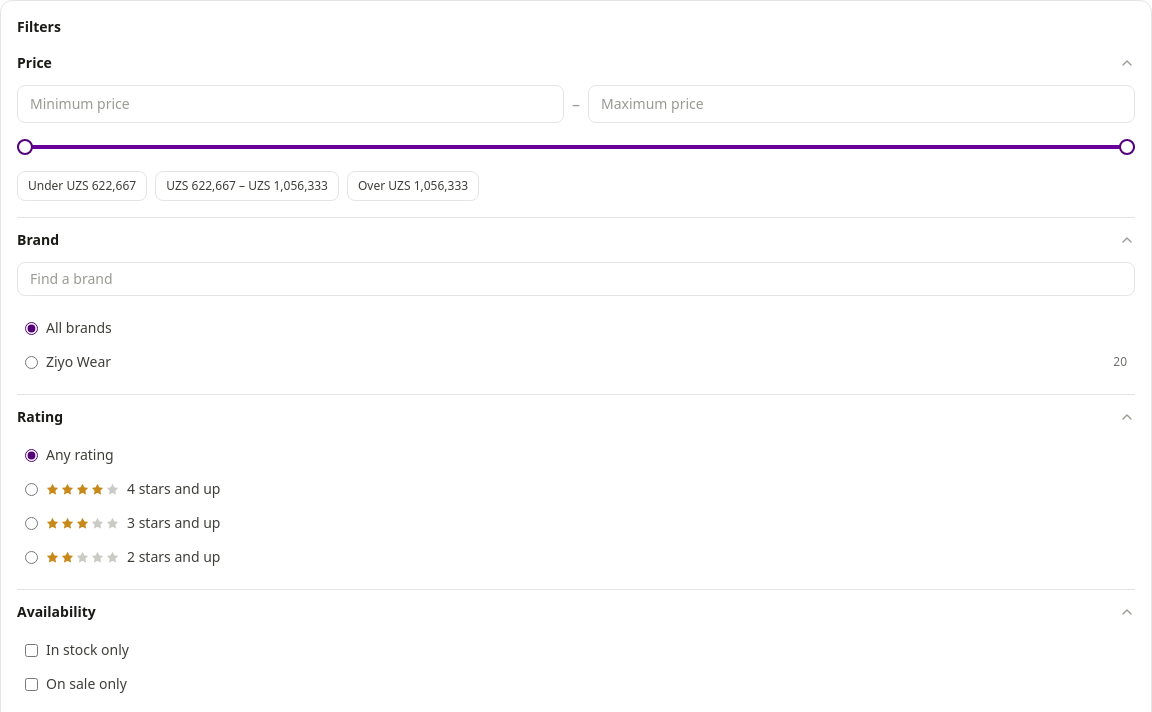
Test: ProductFilters › narrows the brand list by the text field without reporting a change
In the search field: [576, 279] box [17,262,1135,296], type "nope"
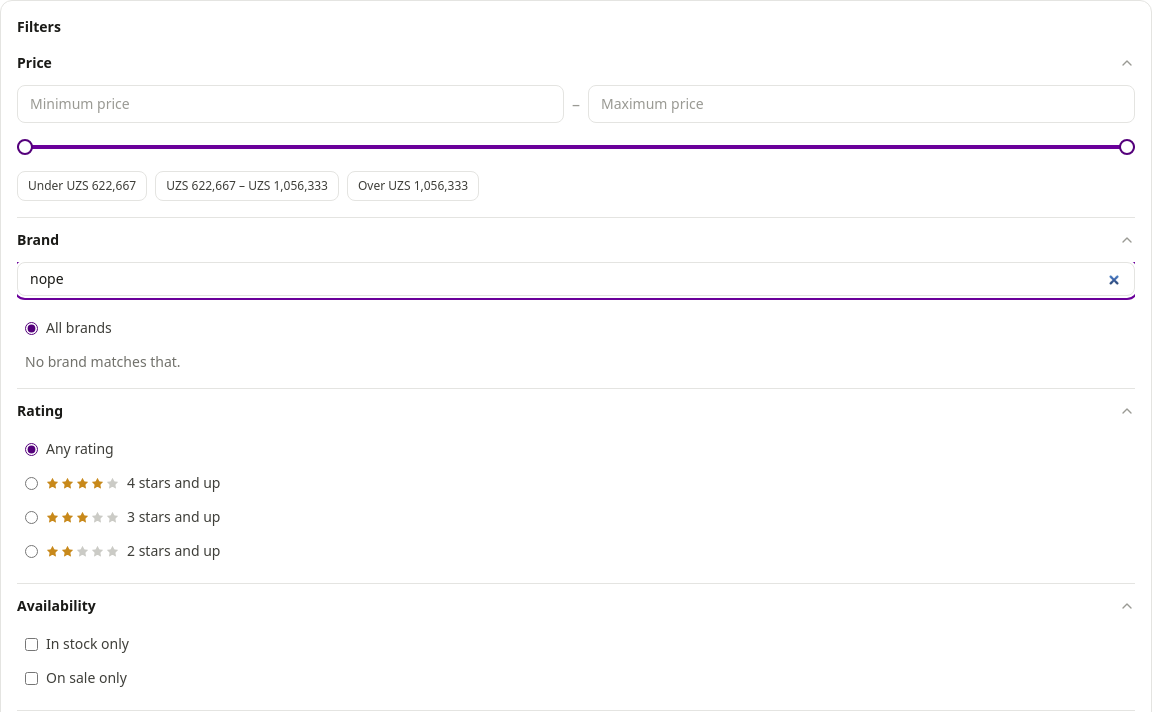
expect the text "Ziyo Wear" is gone: met
